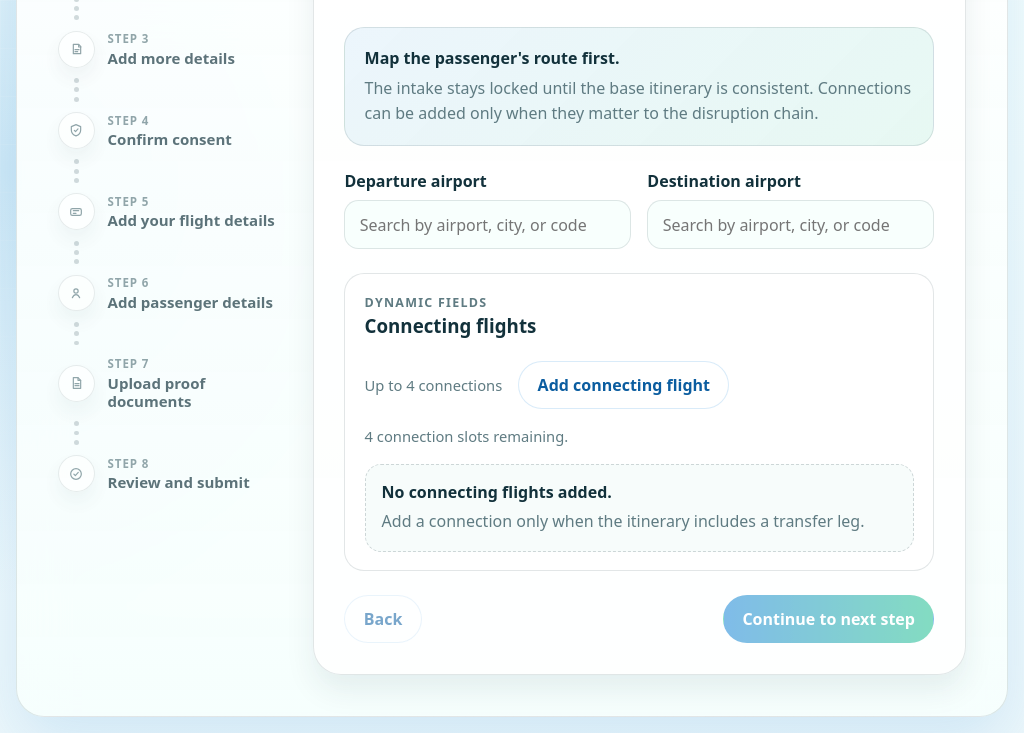
Test: caps connecting flights at four entries
(page scrolled)
What coordinates should you click on to do the following:
click the button "Add connecting flight"
I would click on:
 (624, 385)
Its box is [518,361,729,409].
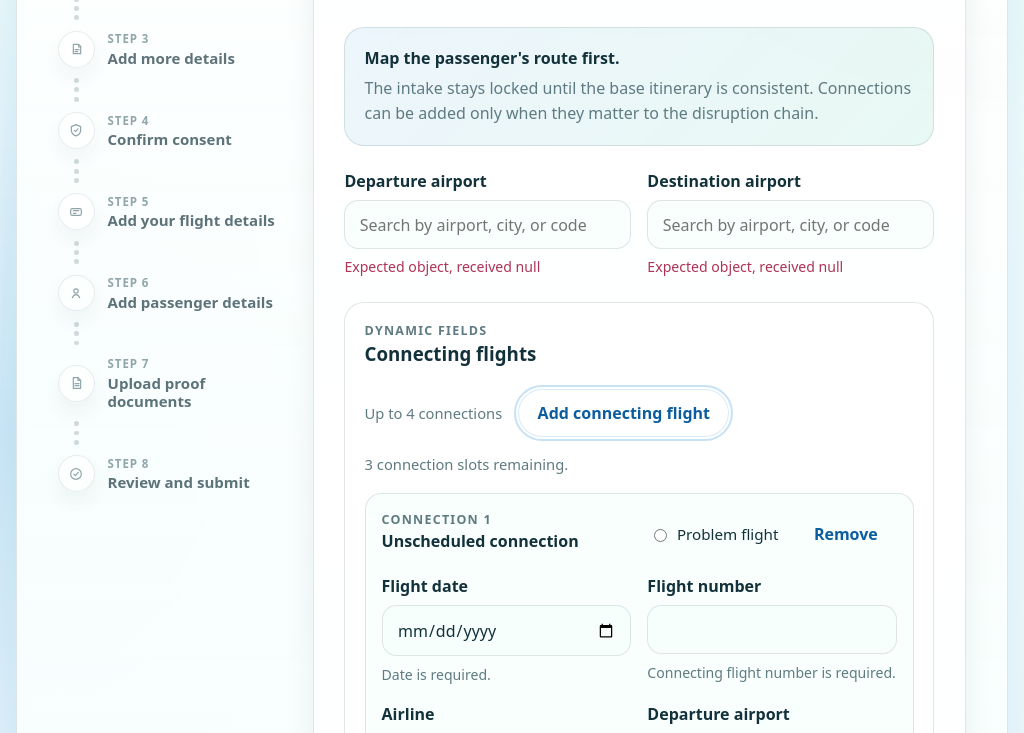
What coordinates should you click on to do the following:
click the button "Add connecting flight"
I would click on:
 (624, 413)
Its box is [518,389,729,437].
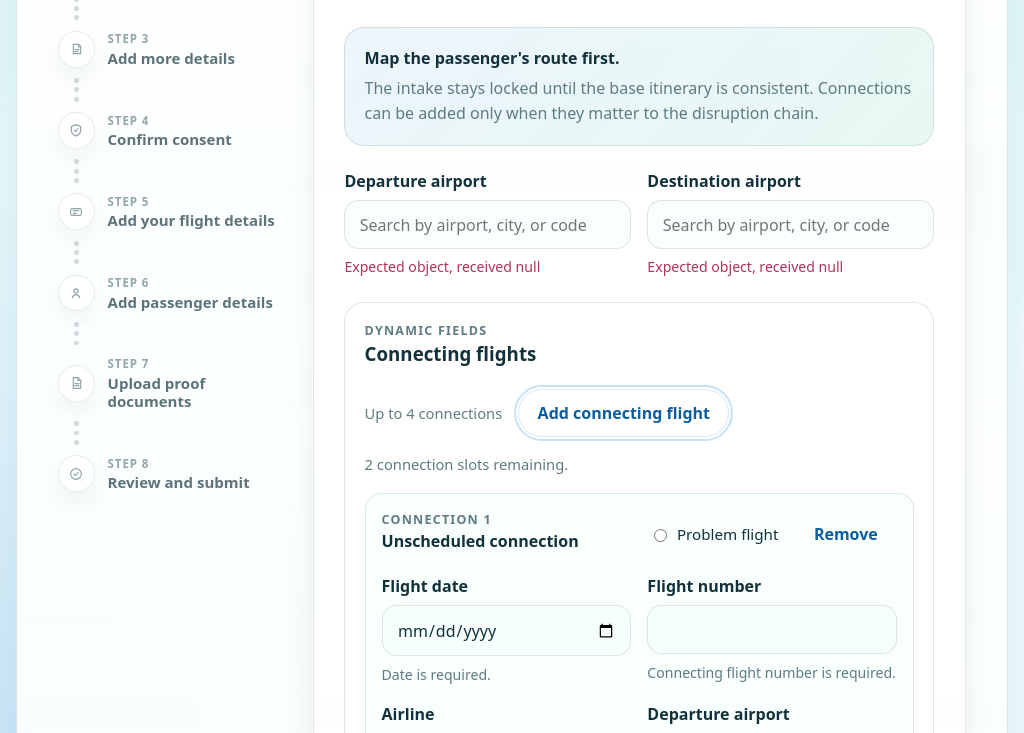
What coordinates should you click on to do the following:
click the button "Add connecting flight"
I would click on:
 (624, 413)
Its box is [518,389,729,437].
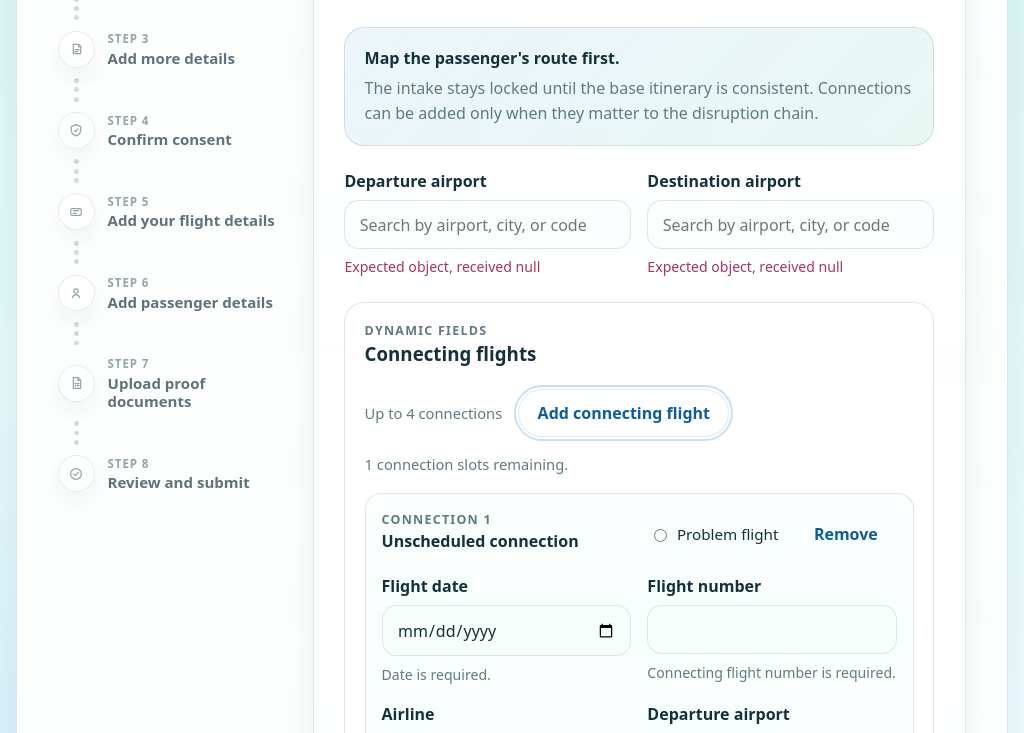
What coordinates should you click on to do the following:
click the button "Add connecting flight"
I would click on:
 (624, 413)
Its box is [518,389,729,437].
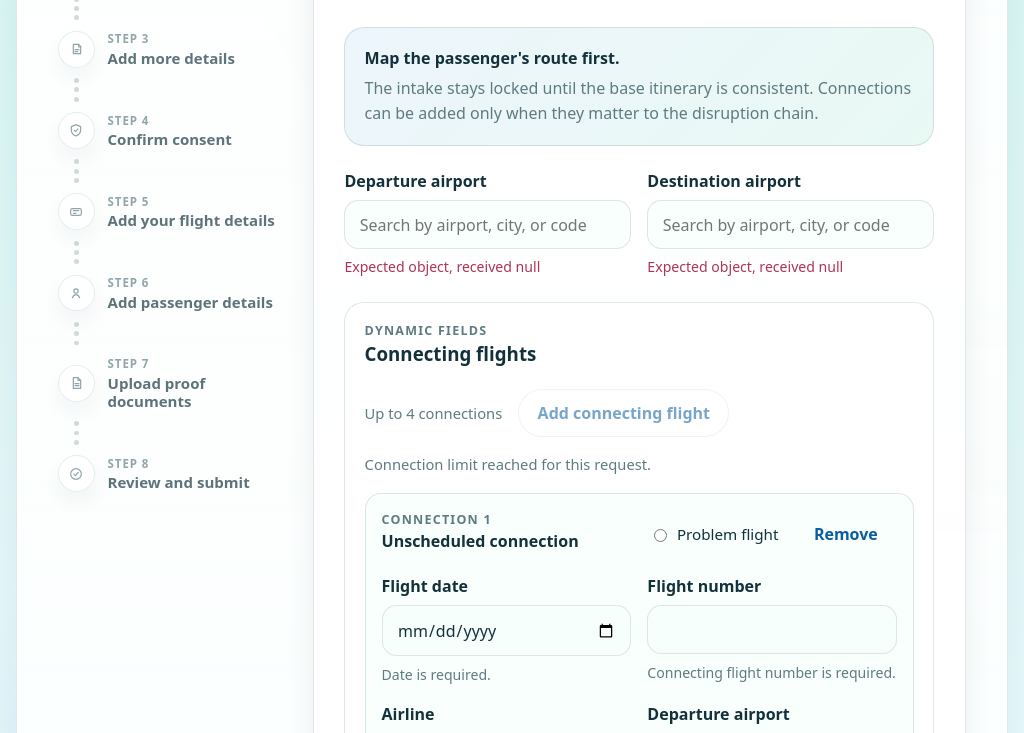
Now the button "Add connecting flight" is disabled, box [518,389,729,437]
